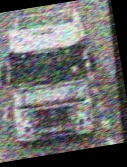truck: (0, 6, 100, 147)
